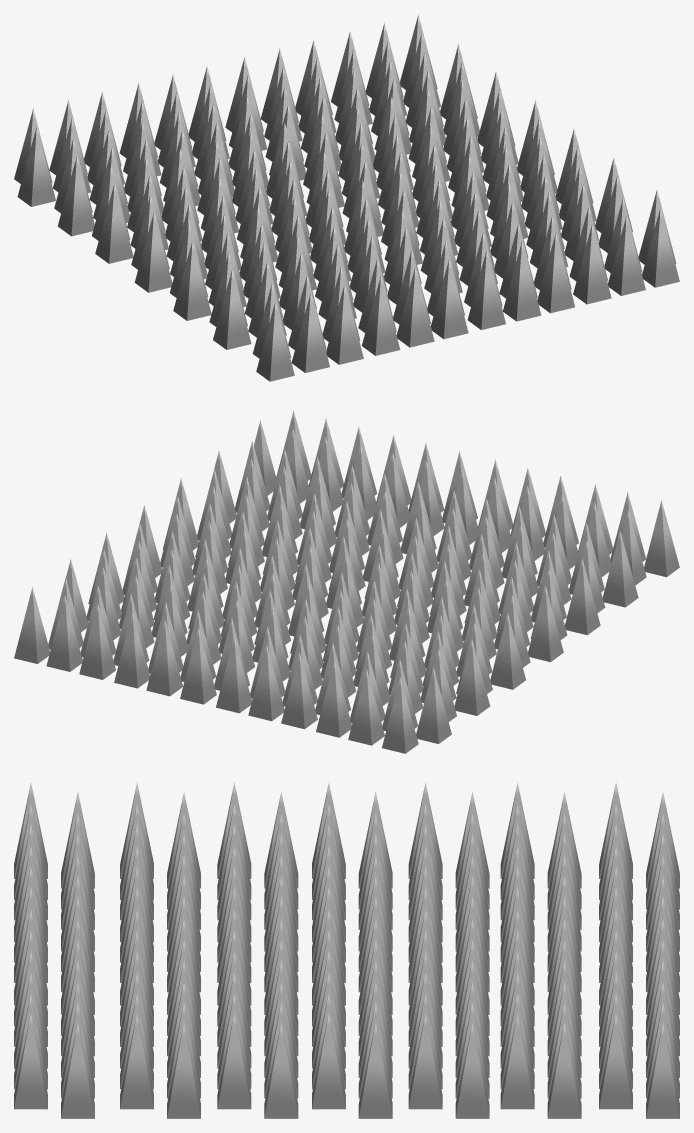
The model's file is Spikes.FBX.
The picture shows the model from 3 angles, top to bottom: view 1: azimuth 30°, elevation 25°; view 2: azimuth 150°, elevation 25°; view 3: azimuth 270°, elevation 25°; orthographic projection. The views are drawn at different scales.
Visible parts, largest first — view 1: Spike09; view 2: Spike09; view 3: Spike09.
Boxes of the visible parts, x1,y1,x2,y2 form: Spike09: (14,14,679,381); Spike09: (14,410,679,753); Spike09: (14,782,679,1118).
Size of the model in its own units: 138 by 153 by 22.67.
Materials: 1 (1 with a texture image).
